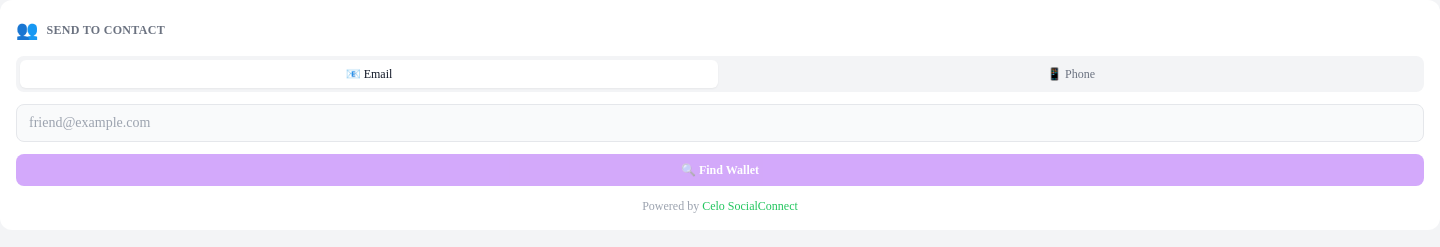
Scenario: SocialContactPicker › enables resolve button when input has value
Type "test@example.com" into the field with placeholder "friend@example.com" at {"x": 720, "y": 123}, box [16,104,1424,142]
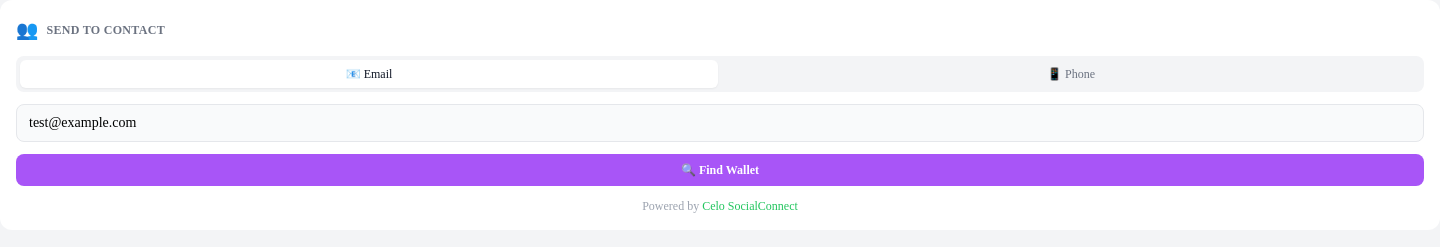
Check: the button "🔍 Find Wallet" is enabled, box [16,154,1424,186]
